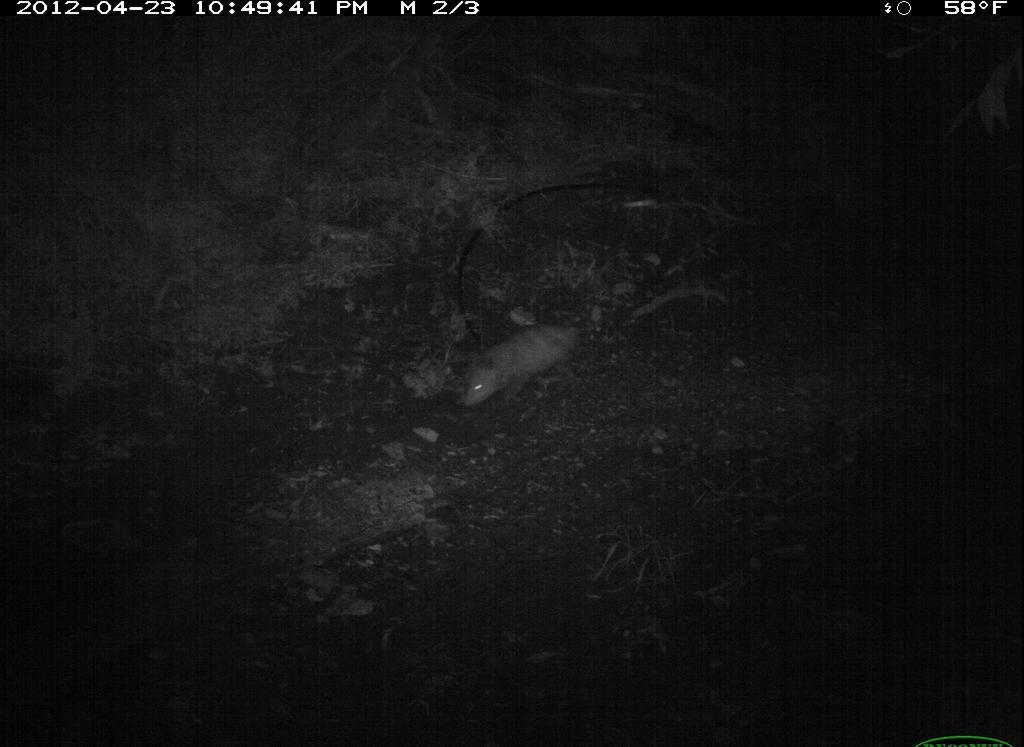opossum: (454, 303, 612, 427)
